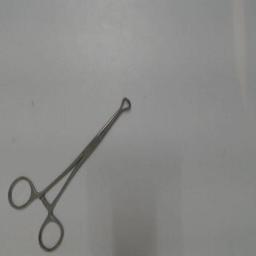Babcock Tissue Forceps: (6, 96, 134, 254)
